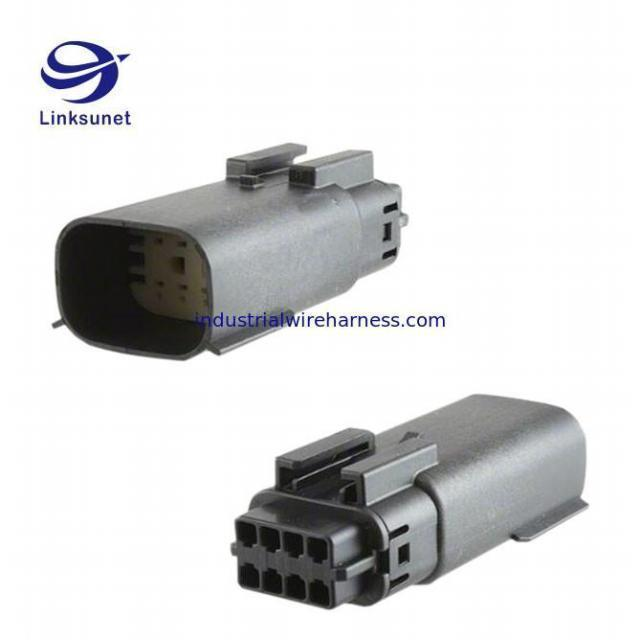connector: (231, 395, 586, 608), (55, 143, 405, 359)
